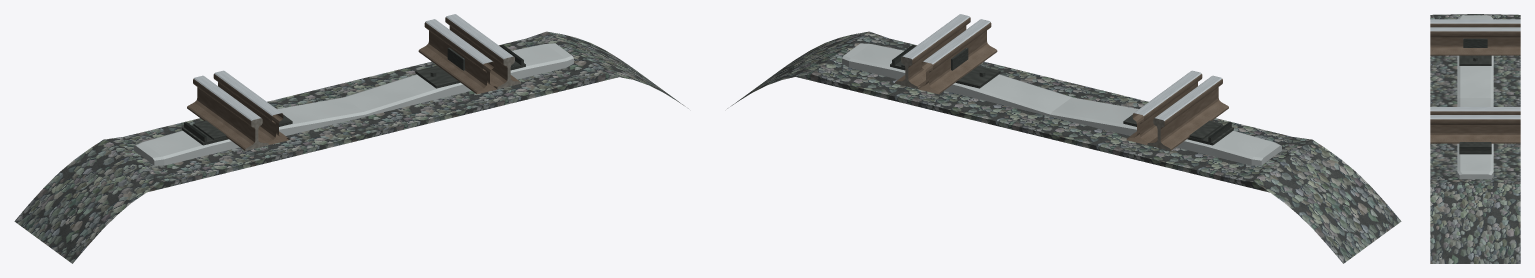
The model's file is outer_guard_new_mid.obj.
The picture shows the model from 3 angles, left to right: view 1: azimuth 30°, elevation 25°; view 2: azimuth 150°, elevation 25°; view 3: azimuth 270°, elevation 25°; orthographic projection. The views are drawn at different scales.
Visible parts, largest first — view 1: ballast, sleeper, outer_guard_right, rail_left, outer_guard_left, rail_right, outer_fastener_right, fastener_left; view 2: ballast, sleeper, outer_guard_right, rail_left, outer_guard_left, rail_right, outer_fastener_right, fastener_left; view 3: ballast, sleeper, rail_right, outer_guard_left, rail_left, outer_guard_right, outer_fastener_left, fastener_right, outer_fastener_right.
Part boxes in pixels (<box>): ballast: <box>14,31,688,263</box>; sleeper: <box>134,43,573,165</box>; outer_guard_right: <box>418,19,498,94</box>; rail_left: <box>187,75,266,150</box>; outer_guard_left: <box>213,70,289,144</box>; rail_right: <box>445,14,519,88</box>; outer_fastener_right: <box>415,47,525,88</box>; fastener_left: <box>184,120,226,142</box>; ballast: <box>727,31,1401,263</box>; sleeper: <box>842,43,1281,165</box>; outer_guard_right: <box>917,19,997,94</box>; rail_left: <box>1149,75,1228,150</box>; outer_guard_left: <box>1126,70,1202,144</box>; rail_right: <box>896,14,970,88</box>; outer_fastener_right: <box>890,47,1000,88</box>; fastener_left: <box>1189,120,1231,142</box>; ballast: <box>1430,14,1520,263</box>; sleeper: <box>1457,15,1493,179</box>; rail_right: <box>1430,115,1520,143</box>; outer_guard_left: <box>1430,27,1520,55</box>; rail_left: <box>1430,19,1520,27</box>; outer_guard_right: <box>1430,107,1520,114</box>; outer_fastener_left: <box>1459,38,1491,65</box>; fastener_right: <box>1459,142,1491,151</box>; outer_fastener_right: <box>1459,144,1491,154</box>.
Size of the model in its own units: 3.7 by 0.5683 by 0.6.
